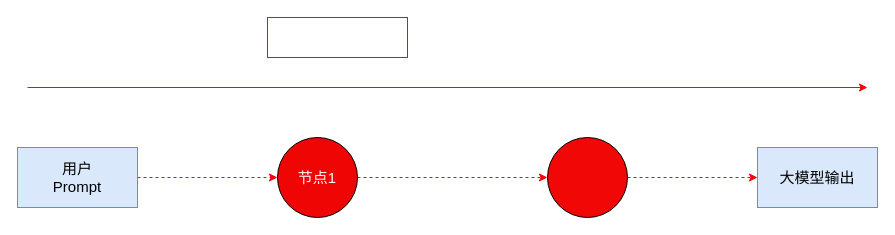
Image size: 895x235. Some labels were removed from this diagram. The box of each missing label's shape, as (x1, y1, x2, y2) in pixels:
全局状态: (266, 16, 408, 58)
节点2: (546, 136, 628, 218)
